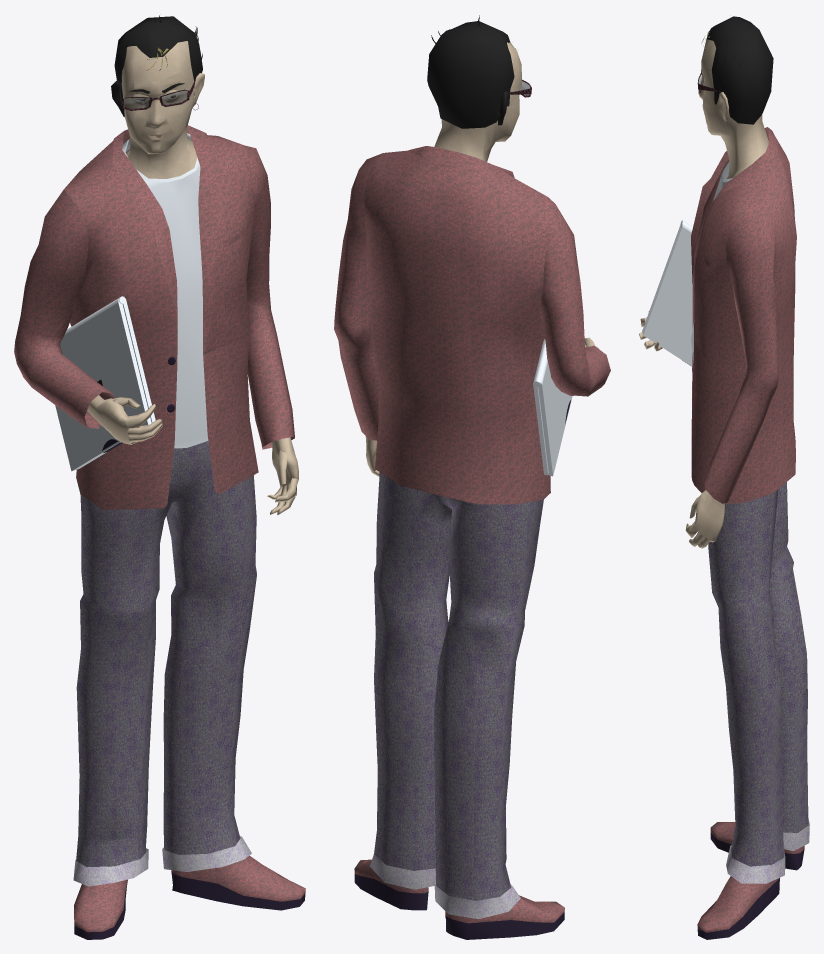
File: Starship+Trooper.fbx
The picture shows the model from 3 angles, left to right: view 1: azimuth 30°, elevation 25°; view 2: azimuth 150°, elevation 25°; view 3: azimuth 270°, elevation 25°; orthographic projection. The views are drawn at different scales.
Visible parts, largest first — view 1: Model, Group22, Group21, Group18, Group12, Group5, Group25, Group11; view 2: Model, Group22, Group21, Group18, Group12; view 3: Model, Group22, Group18, Group11, Group25.
Boxes of the visible parts, x1,y1,x2,y2 form: Model: (73, 15, 305, 939); Group22: (64, 125, 258, 509); Group21: (14, 189, 114, 428); Group18: (244, 145, 294, 449); Group12: (55, 299, 151, 471); Group5: (87, 395, 131, 444); Group25: (272, 437, 298, 487); Group11: (76, 298, 155, 469); Model: (354, 15, 564, 939); Group22: (364, 146, 554, 504); Group21: (539, 204, 610, 396); Group18: (334, 153, 382, 440); Group12: (538, 354, 572, 476); Model: (691, 16, 809, 939); Group22: (691, 127, 796, 504); Group18: (703, 206, 778, 503); Group11: (642, 223, 692, 366); Group25: (694, 490, 724, 541).
Size of the model in its own units: 0.6046 by 2.03 by 0.3628.
